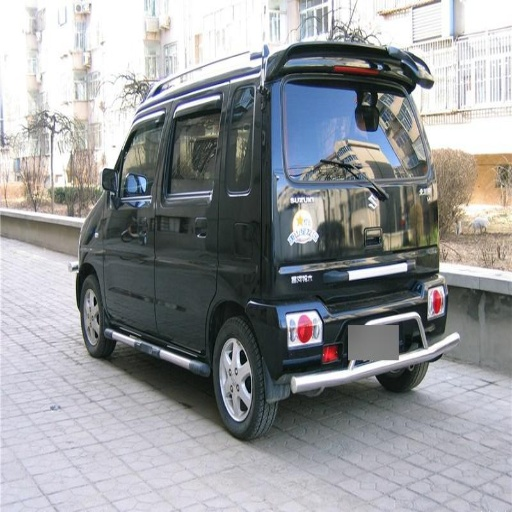back_bumper: (273, 293, 405, 390), (417, 277, 454, 360)
back_glass: (288, 69, 409, 169)
trunk: (176, 148, 387, 351)
